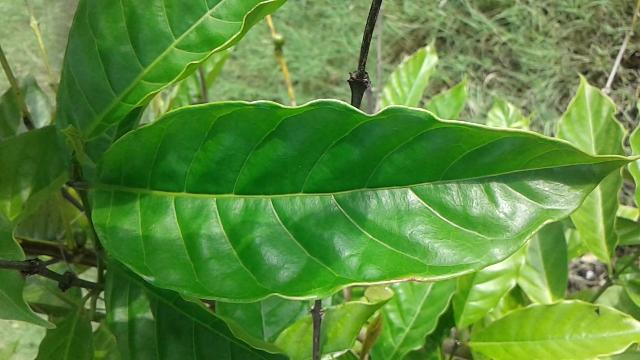healthy: (91, 100, 638, 301)
